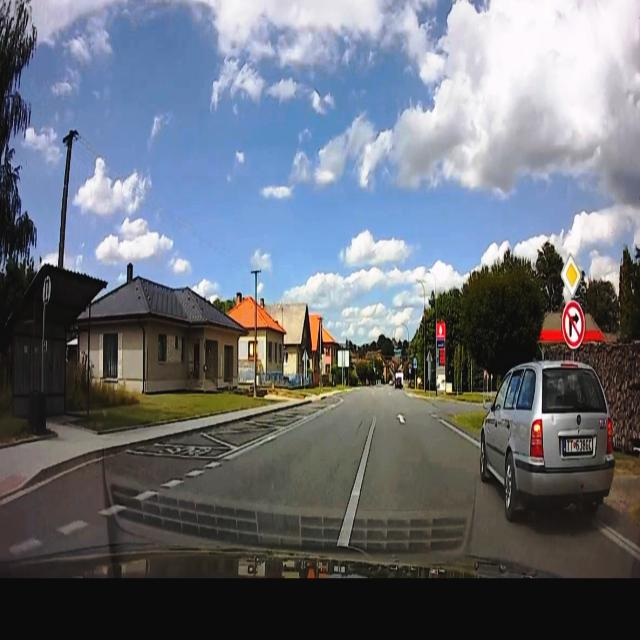Priority road: (560, 251, 582, 300)
